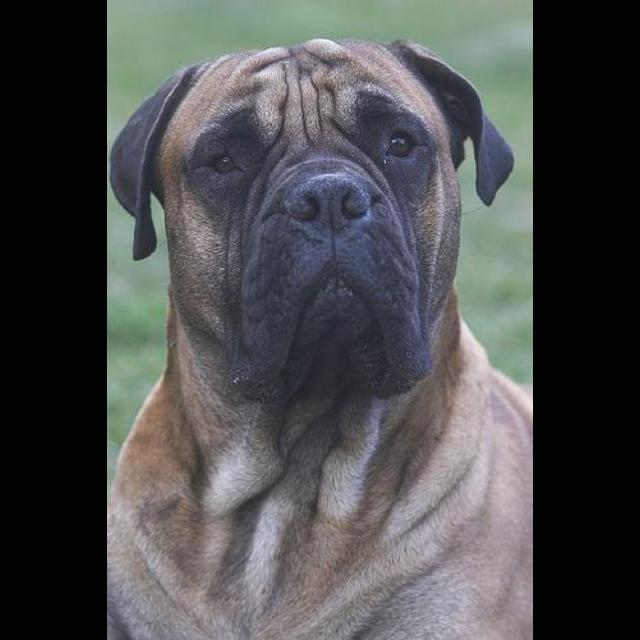bullmastiff: (108, 37, 532, 639)
